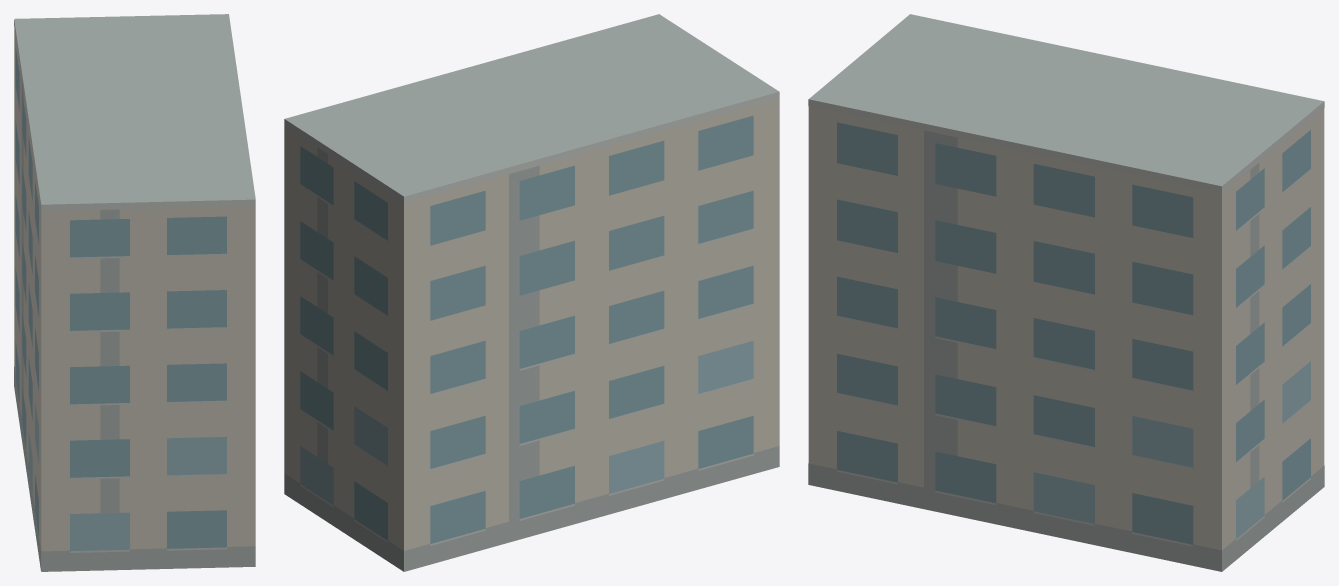
Rendered from survey-upis-32893922.glb.
The picture shows the model from 3 angles, left to right: view 1: azimuth 30°, elevation 25°; view 2: azimuth 150°, elevation 25°; view 3: azimuth 270°, elevation 25°; orthographic projection. The views are drawn at different scales.
Visible parts, largest first — view 1: survey-upis-32893922.tmp; view 2: survey-upis-32893922.tmp; view 3: survey-upis-32893922.tmp.
Boxes of the visible parts, x1=… form: survey-upis-32893922.tmp: x1=14, y1=14, x2=255, y2=571; survey-upis-32893922.tmp: x1=284, y1=14, x2=779, y2=571; survey-upis-32893922.tmp: x1=808, y1=14, x2=1324, y2=571.
Bounding box in the file's own units: 12.94 × 13.5 × 16.38.
